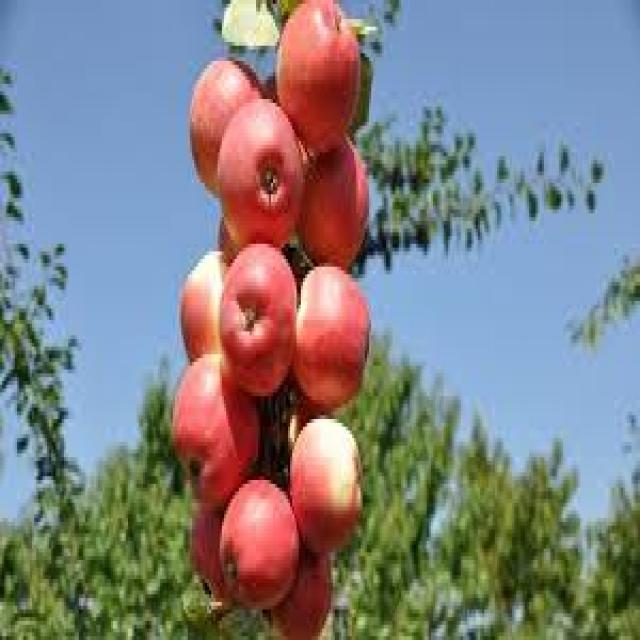organic waste: (169, 350, 258, 503), (213, 99, 301, 248), (216, 236, 296, 396), (273, 0, 358, 149), (292, 255, 367, 404), (218, 476, 296, 610), (190, 57, 264, 191), (286, 415, 358, 549), (296, 133, 365, 267), (260, 545, 329, 636), (179, 248, 226, 354), (190, 499, 232, 602), (216, 213, 273, 263), (284, 392, 322, 461)
